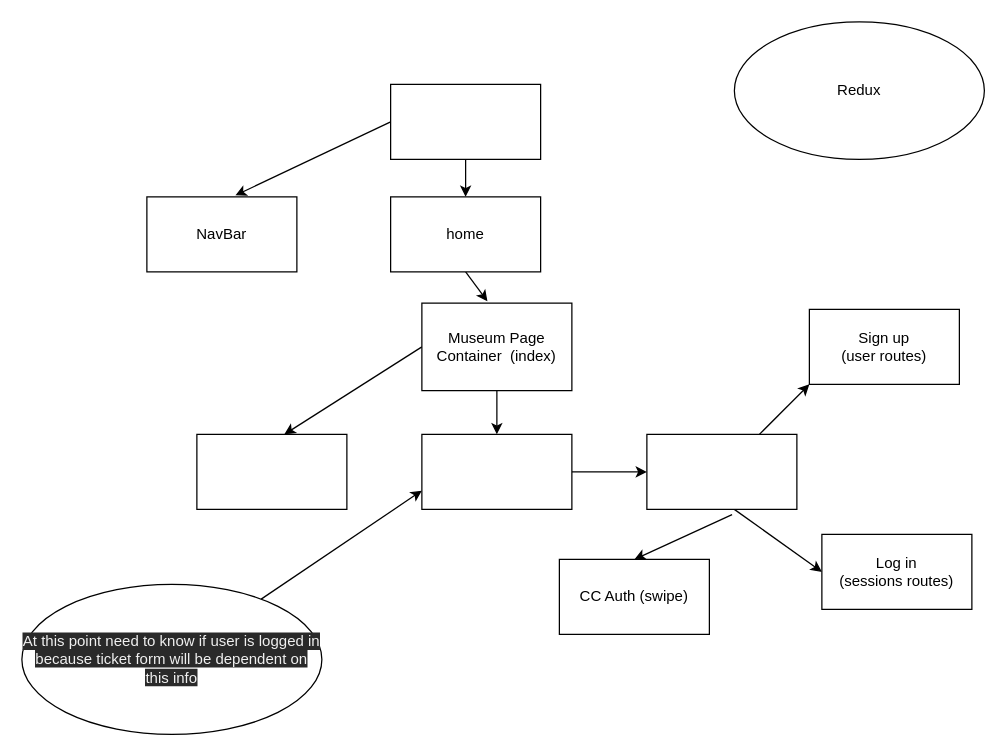
Some shapes in this 1006 by 756 pixel diagram are drawn without their labels. The shapes that lost their labels are listed below. From the top down, each one's centre as x and y in pixels, then its label:
the point at 465,121: App / Splash Page
the point at 271,471: Map
the point at 496,471: Museum Card (show)
the point at 721,471: Tour Form
